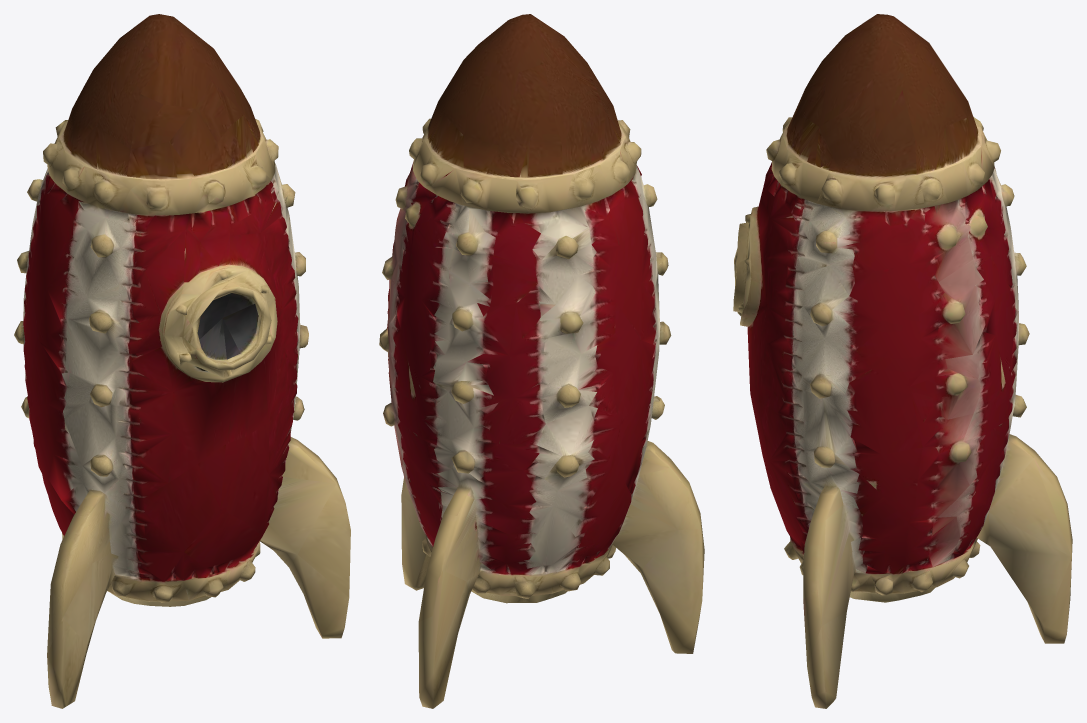
File: rocket.glb
The picture shows the model from 3 angles, left to right: view 1: azimuth 30°, elevation 25°; view 2: azimuth 150°, elevation 25°; view 3: azimuth 270°, elevation 25°; orthographic projection.
Visible parts, largest first — view 1: Mesh_0; view 2: Mesh_0; view 3: Mesh_0.
Boxes of the visible parts, left/top/right/bottom form: Mesh_0: left=14, top=14, right=350, bottom=708; Mesh_0: left=379, top=14, right=704, bottom=708; Mesh_0: left=733, top=14, right=1072, bottom=708.
Size of the model in its own units: 1.25 by 2.5 by 1.23.
1 material, 1 textured.
